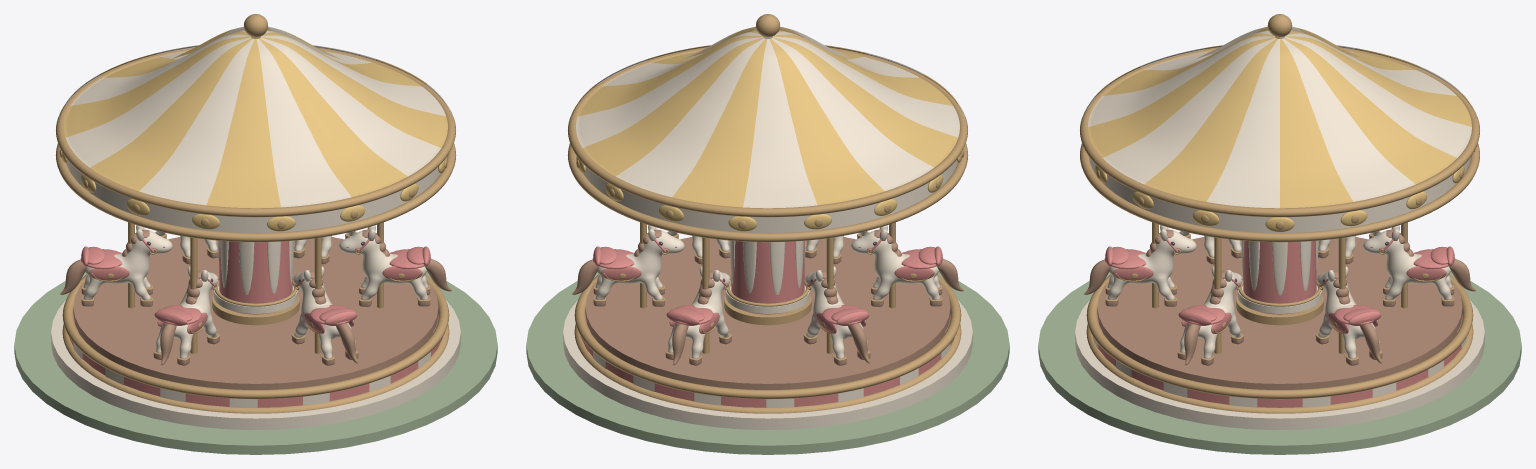
The model's file is carouselSmall.glb.
3 renders of one model, left to right at view 1: azimuth 30°, elevation 25°; view 2: azimuth 150°, elevation 25°; view 3: azimuth 270°, elevation 25°, orthographic.
Parts seen in each view (by area): view 1: circular moulding (×8), curved striped canopy (×14), rounded rim (×4), single sculpted pony body (×4), moulded center column panel (×2), carousel pole (×2), single sculpted flowing pony tail; view 2: circular moulding (×8), curved striped canopy (×14), rounded rim (×4), single sculpted pony body (×4), moulded center column panel (×2), carousel pole (×2), single sculpted flowing pony tail; view 3: circular moulding (×8), curved striped canopy (×14), rounded rim (×4), single sculpted pony body (×4), carousel pole (×2), moulded center column panel, single sculpted flowing pony tail.
Boxes of the visible parts, x1,y1,x2,y2 form: circular moulding (×8): (14,160,497,454); curved striped canopy (×14): (59,26,452,208); rounded rim (×4): (55,47,456,413); single sculpted pony body (×4): (83,231,428,358); moulded center column panel (×2): (239,241,280,294); carousel pole (×2): (190,237,321,353); single sculpted flowing pony tail: (60,259,87,294); circular moulding (×8): (526,160,1009,454); curved striped canopy (×14): (571,26,964,208); rounded rim (×4): (567,47,968,413); single sculpted pony body (×4): (595,231,940,358); moulded center column panel (×2): (743,241,784,294); carousel pole (×2): (702,237,833,353); single sculpted flowing pony tail: (572,259,599,294); circular moulding (×8): (1038,157,1521,454); curved striped canopy (×14): (1083,27,1476,208); rounded rim (×4): (1080,47,1479,413); single sculpted pony body (×4): (1107,231,1452,358); carousel pole (×2): (1214,237,1345,353); moulded center column panel: (1272,242,1287,295); single sculpted flowing pony tail: (1084,259,1111,294).
Bounding box in the file's own units: 9.45 × 7.29 × 9.45.
